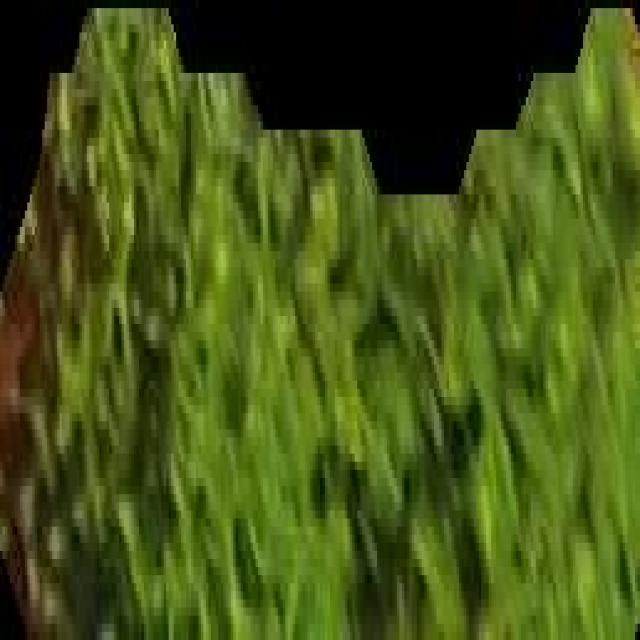Bean: (0, 7, 640, 640)
